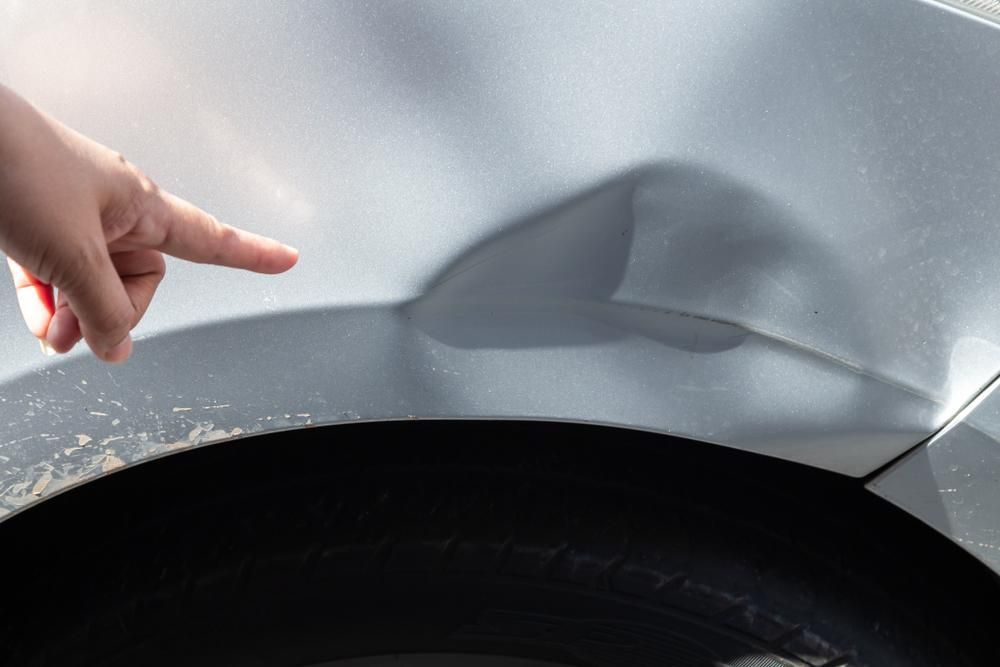dent: (393, 154, 868, 441)
scratch: (0, 373, 344, 526)
